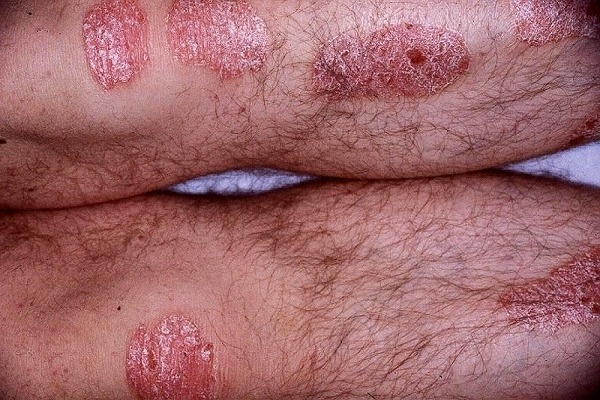Psoriasis: (317, 12, 469, 106), (493, 238, 600, 342), (114, 308, 234, 400), (162, 0, 284, 82), (61, 0, 157, 85), (511, 0, 600, 49)
